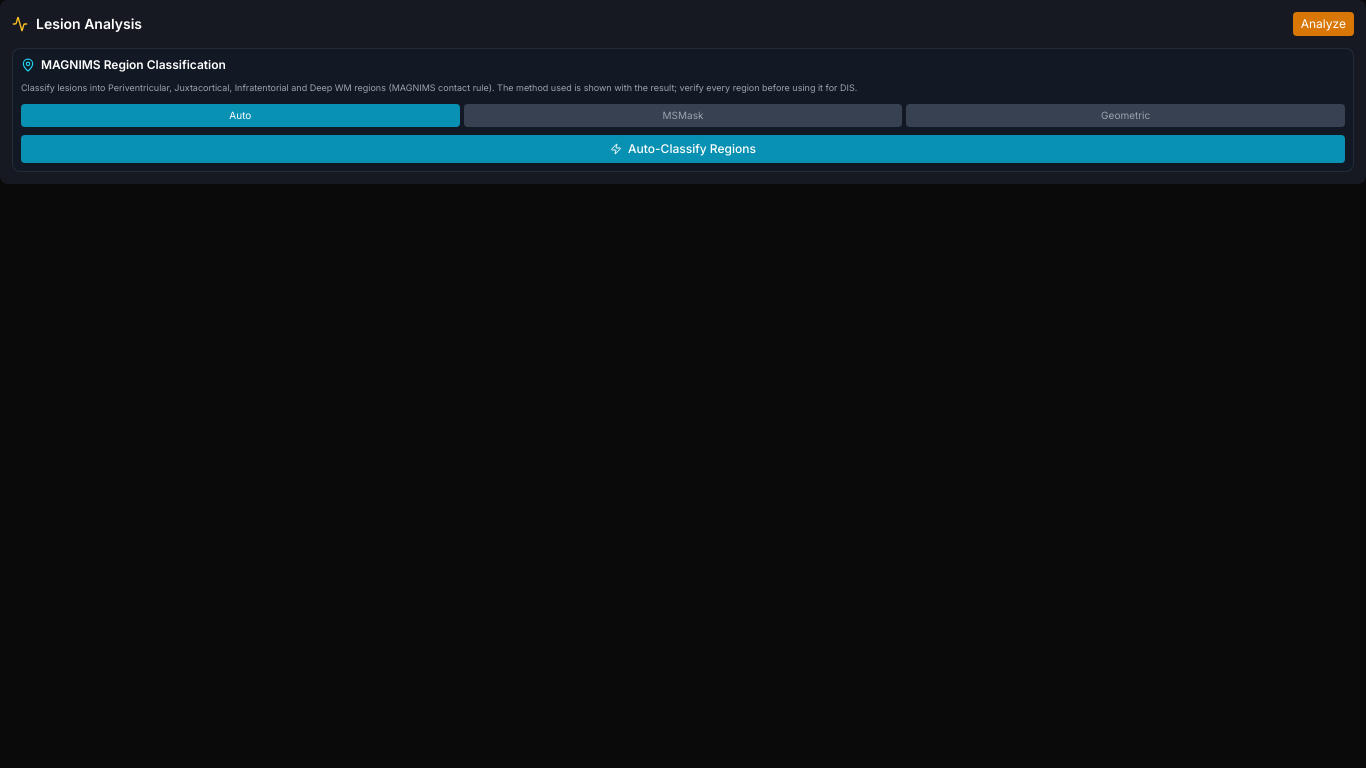
Test case: RC-070 the dashboard shows DIS only for a confirmed segmentation › rc070 a confirmed segmentation shows the result and who confirmed it
Click the button "Analyze": coordinates (1323, 24) [1293, 12, 1354, 36]
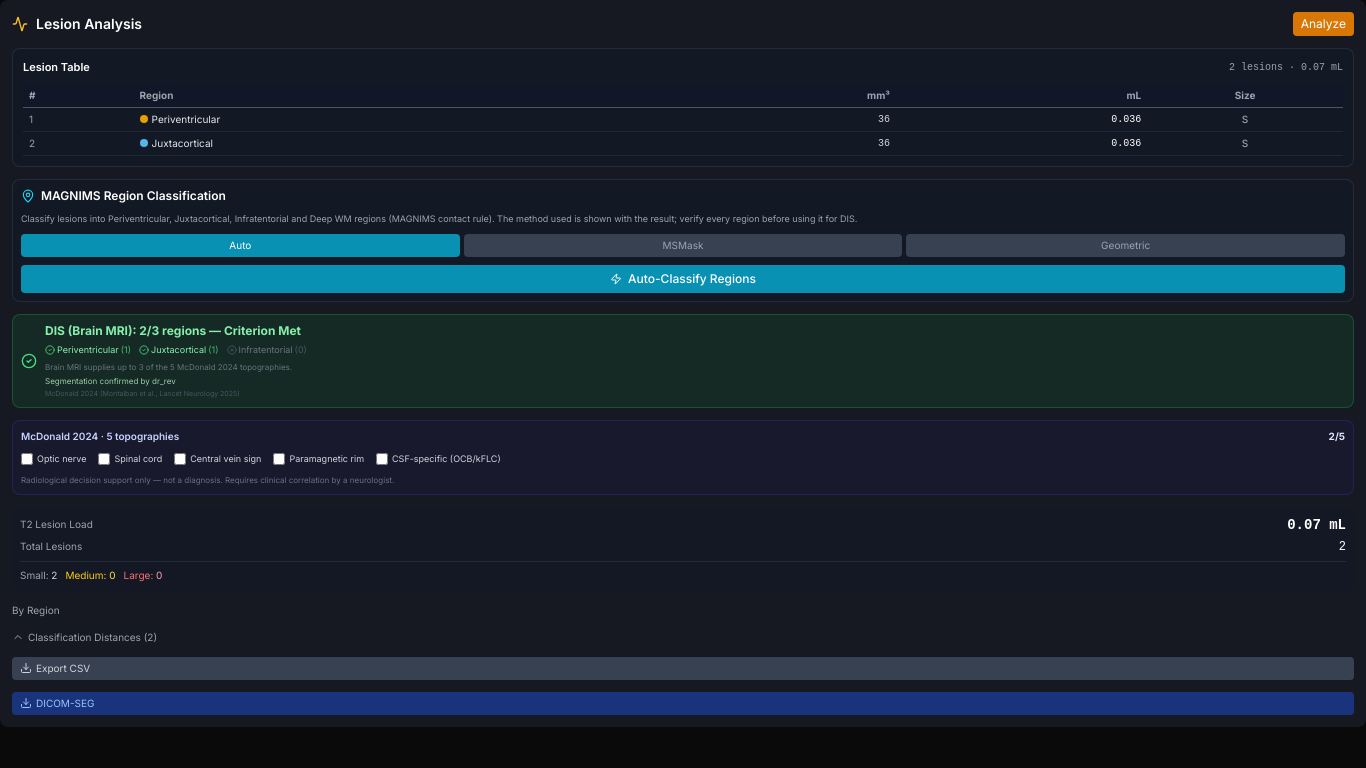
Check: the text "DIS (Brain MRI): 2/3 regions — Criterion Met" is shown, box [45, 323, 301, 338]
Check: the text with test id "dis-confirmed-by" shows "dr_rev", box [45, 376, 176, 386]
